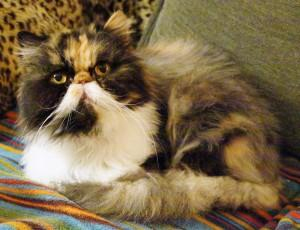persian: (11, 16, 147, 144)
